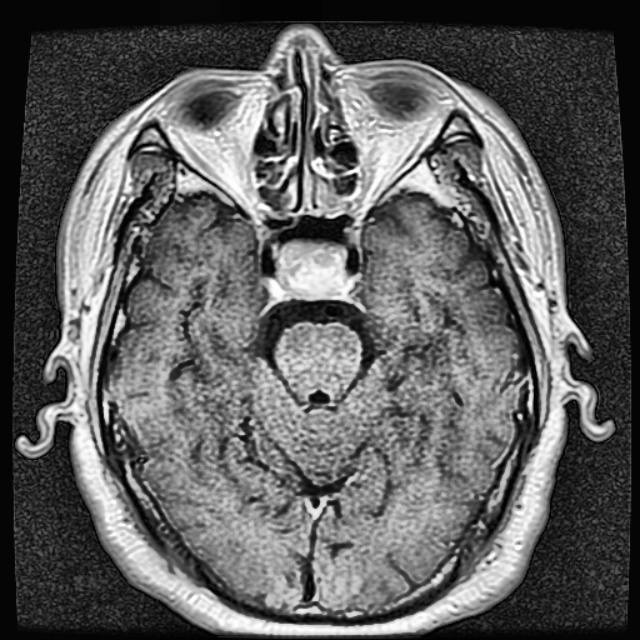Pituitary: (277, 242, 347, 300)
